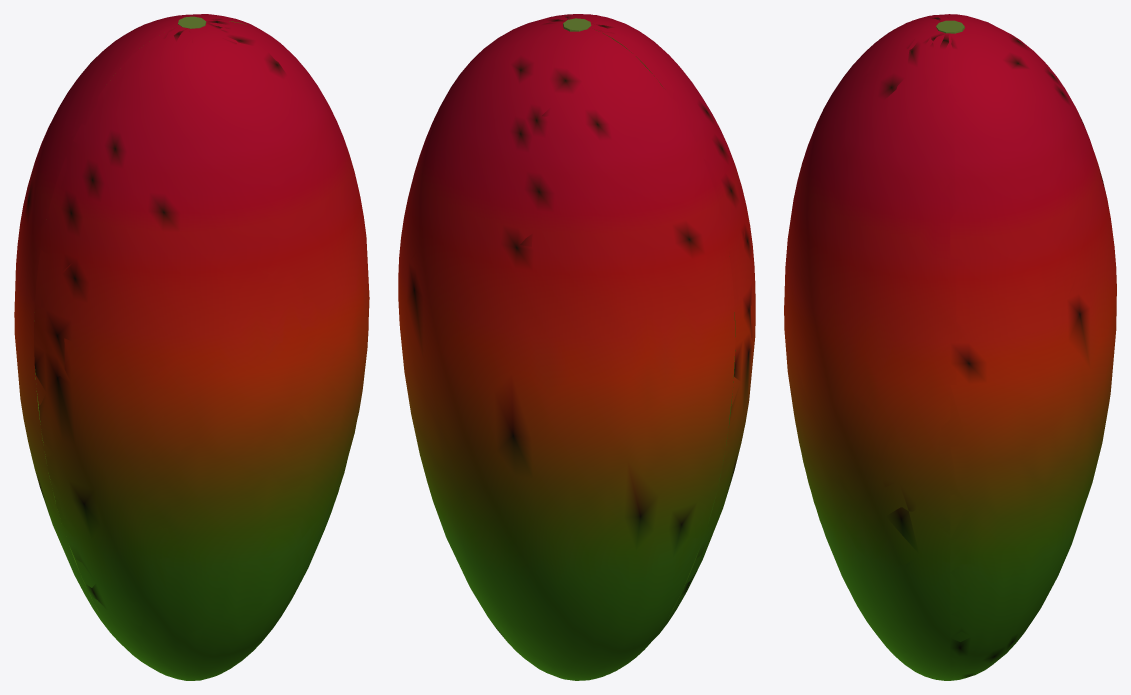
File: figue-de-barbarie.glb
The picture shows the model from 3 angles, left to right: view 1: azimuth 30°, elevation 25°; view 2: azimuth 150°, elevation 25°; view 3: azimuth 270°, elevation 25°; orthographic projection.
Visible parts, largest first — view 1: moitie_B_peau, entier_peau, moitie_A_peau; view 2: moitie_A_peau, entier_peau, moitie_B_peau; view 3: entier_peau, moitie_A_peau, moitie_B_peau.
Part boxes in pixels (left/top/right/bottom): moitie_B_peau: left=34, top=20, right=369, bottom=680; entier_peau: left=14, top=14, right=369, bottom=680; moitie_A_peau: left=14, top=14, right=259, bottom=641; moitie_A_peau: left=398, top=22, right=735, bottom=680; entier_peau: left=398, top=14, right=755, bottom=680; moitie_B_peau: left=510, top=14, right=755, bottom=639; entier_peau: left=784, top=14, right=1114, bottom=680; moitie_A_peau: left=950, top=14, right=1116, bottom=680; moitie_B_peau: left=784, top=14, right=950, bottom=680.
Bounding box in the file's own units: 1.01 × 2 × 0.9302.
